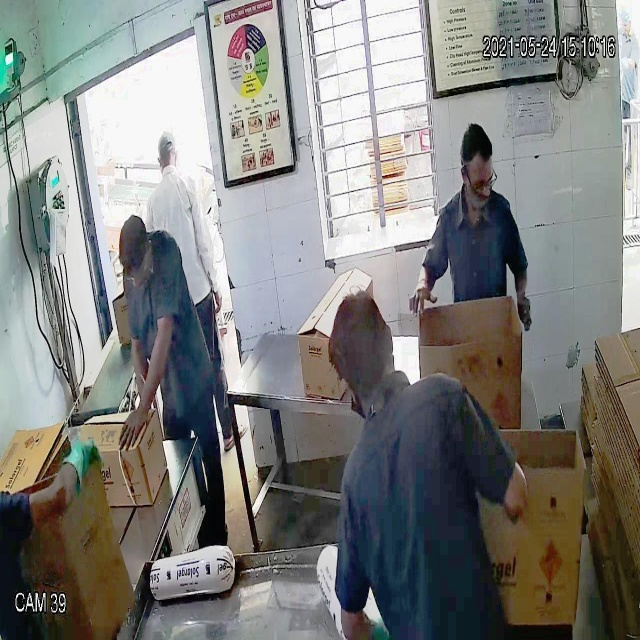Gafas: (458, 161, 502, 199)
